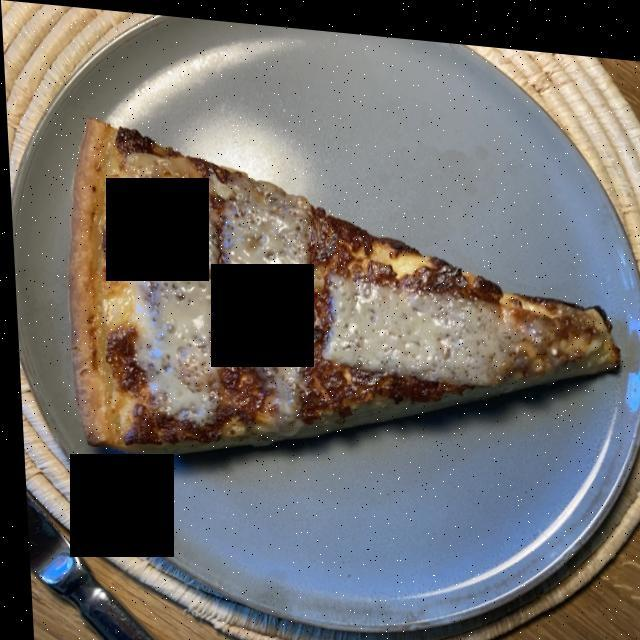cheese: (130, 182, 507, 421)
